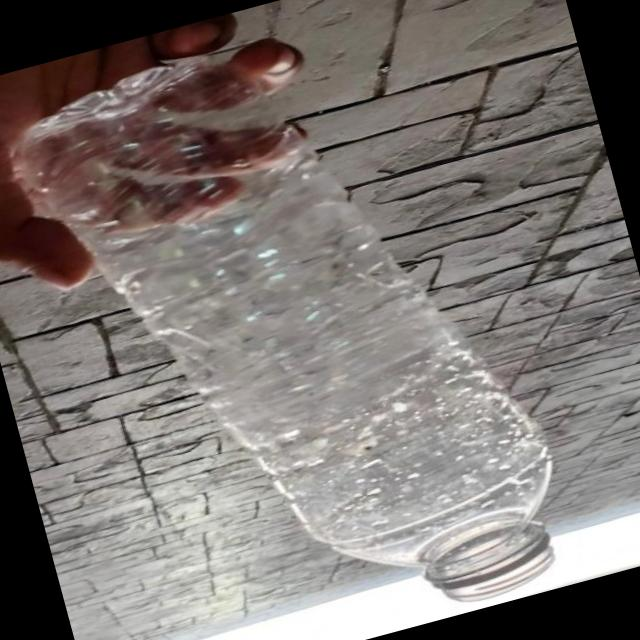plastic_bottle: (2, 0, 583, 640)
